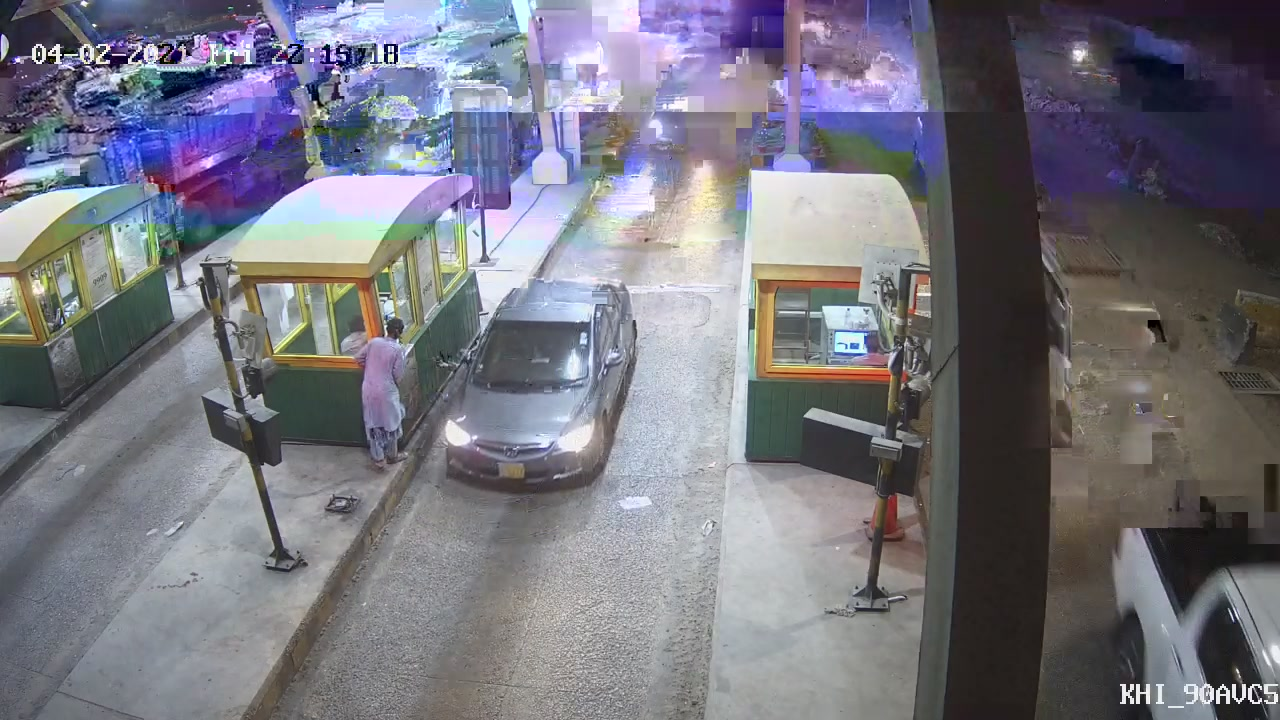F1: (435, 274, 645, 494)
